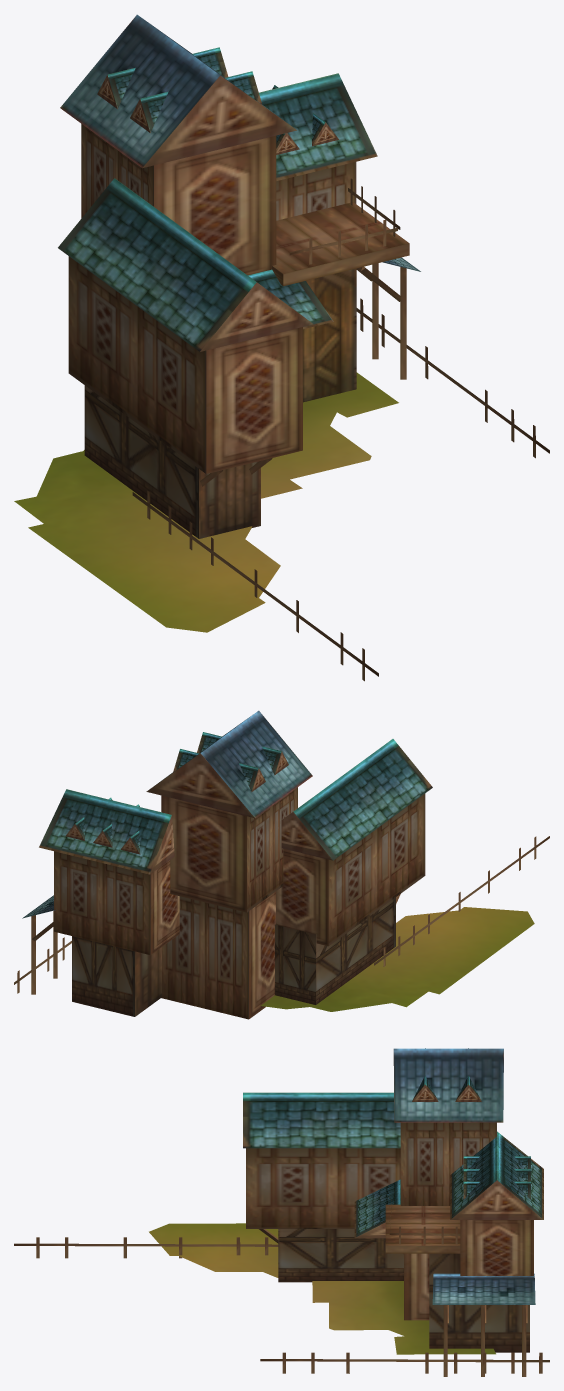
The model's file is Barracks_Level02.FBX.
3 renders of one model, top to bottom at view 1: azimuth 30°, elevation 25°; view 2: azimuth 150°, elevation 25°; view 3: azimuth 270°, elevation 25°, orthographic. The views are drawn at different scales.
Visible parts, largest first — view 1: Barracks_Level02; view 2: Barracks_Level02; view 3: Barracks_Level02.
Boxes of the visible parts, <box> form: Barracks_Level02: <box>14,14,549,681</box>; Barracks_Level02: <box>14,710,549,1019</box>; Barracks_Level02: <box>14,1048,549,1376</box>.
Size of the model in its own units: 951 by 769 by 1460.
